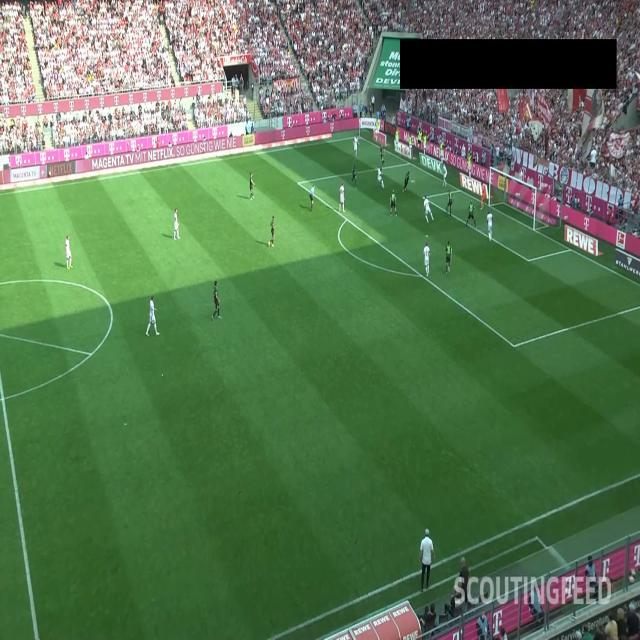ball: (409, 178, 416, 185)
